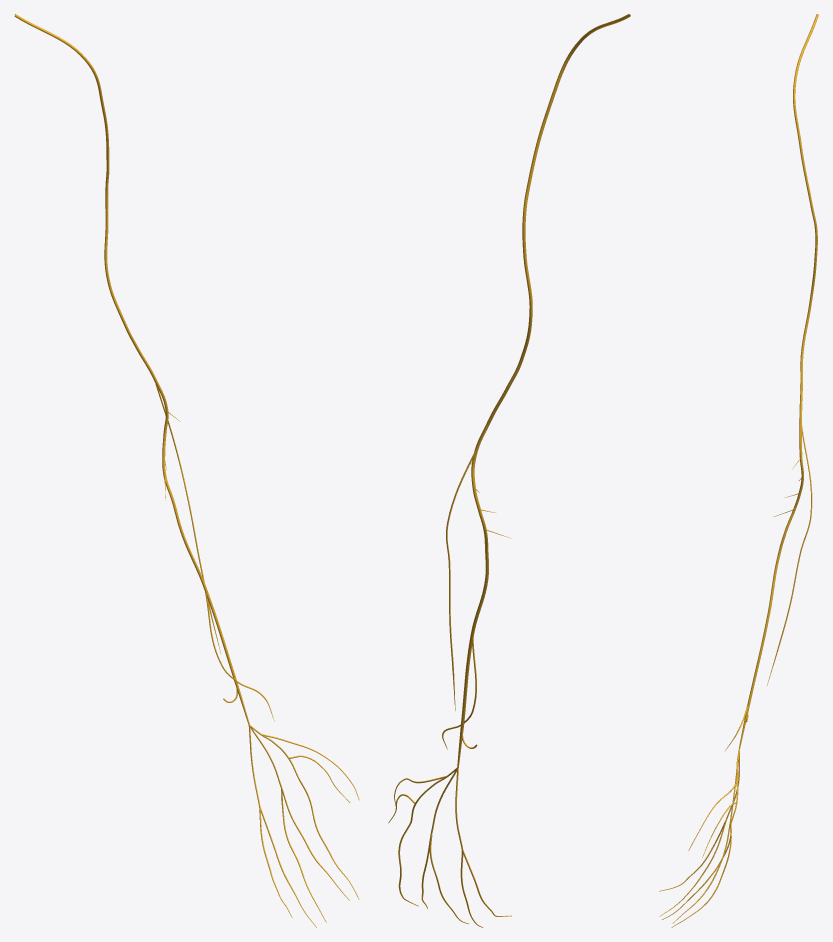
Rendered from nervoso-median-nerve-l.glb.
3 renders of one model, left to right at view 1: azimuth 30°, elevation 25°; view 2: azimuth 150°, elevation 25°; view 3: azimuth 270°, elevation 25°, orthographic. The views are drawn at different scales.
Visible parts, largest first — view 1: Median nerve.l, Proper palmar digital branches of median nerve.l; view 2: Median nerve.l, Proper palmar digital branches of median nerve.l, Anterior interosseous nerve of forearm.l, Common palmar digital branches of median nerve.l; view 3: Median nerve.l, Proper palmar digital branches of median nerve.l, Anterior interosseous nerve of forearm.l.
Boxes of the visible parts, x1,y1,x2,y2 form: Median nerve.l: [14, 14, 249, 725]; Proper palmar digital branches of median nerve.l: [259, 734, 359, 927]; Median nerve.l: [457, 14, 630, 768]; Proper palmar digital branches of median nerve.l: [388, 776, 511, 927]; Anterior interosseous nerve of forearm.l: [446, 426, 487, 710]; Common palmar digital branches of median nerve.l: [410, 767, 463, 850]; Median nerve.l: [739, 14, 818, 748]; Proper palmar digital branches of median nerve.l: [659, 763, 738, 927]; Anterior interosseous nerve of forearm.l: [767, 425, 812, 685].
Bounding box in the file's own units: 0.2184 × 0.6882 × 0.1232.
